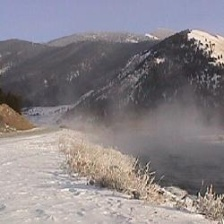neutral: (4, 2, 222, 223)
